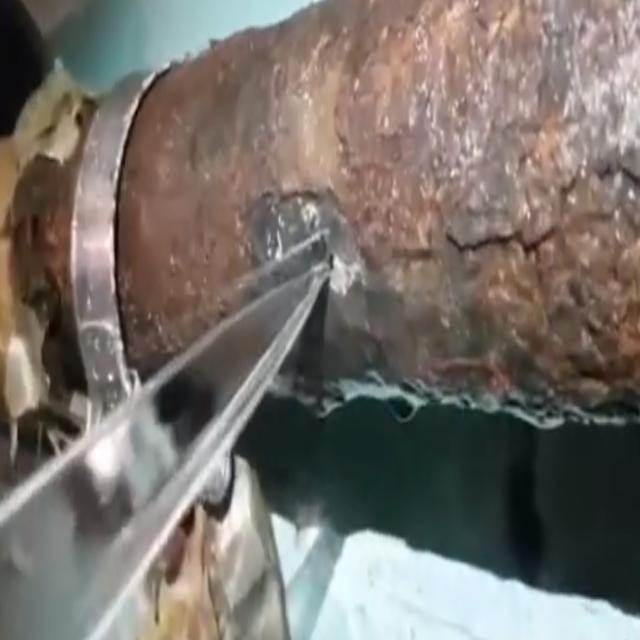leak: (0, 229, 329, 640)
